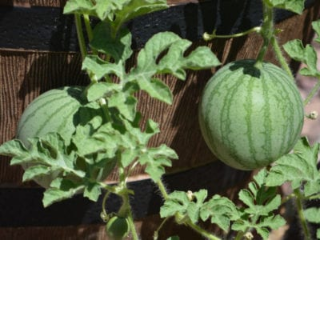dua_hau: (200, 52, 308, 178)
